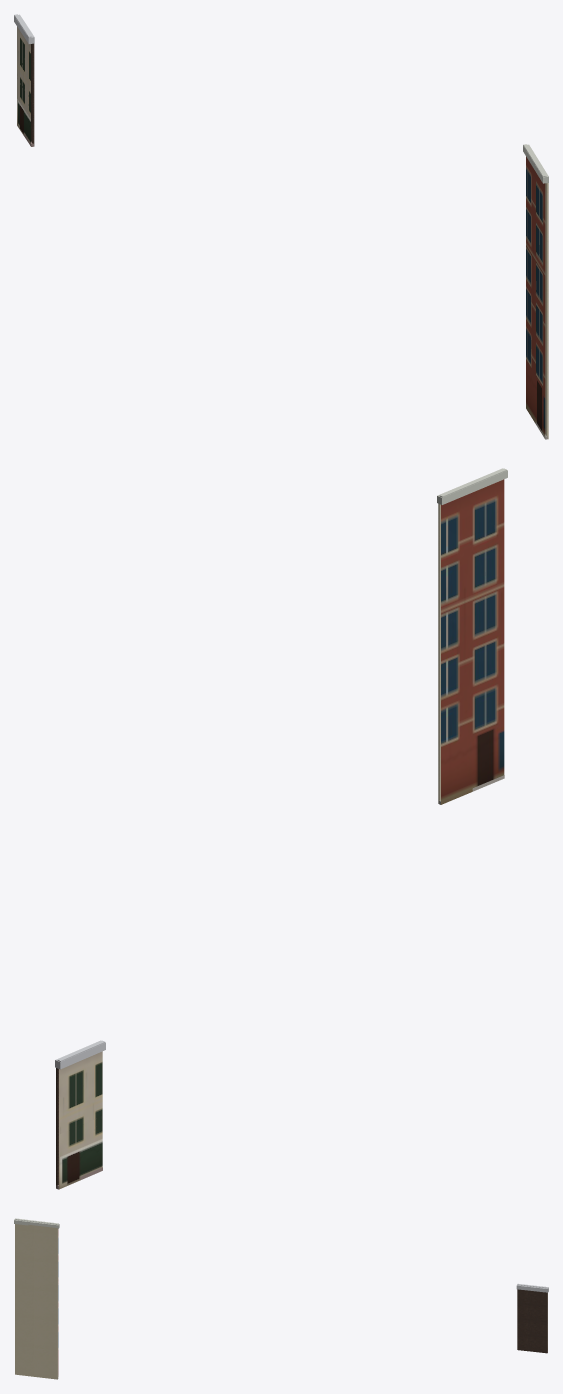
The picture shows the model from 3 angles, top to bottom: view 1: azimuth 30°, elevation 25°; view 2: azimuth 150°, elevation 25°; view 3: azimuth 270°, elevation 25°; orthographic projection. The views are drawn at different scales.
Visible parts, largest first — view 1: bldg_180051338_facade5, bldg_516646839_facade3; view 2: bldg_180051338_facade5, bldg_516646839_facade3; view 3: bldg_180051338_facade5, bldg_516646839_facade3.
Boxes of the visible parts, box(x1,y1,x2,y2) form: bldg_180051338_facade5: box(523, 144, 548, 439); bldg_516646839_facade3: box(14, 14, 34, 146); bldg_180051338_facade5: box(437, 468, 507, 804); bldg_516646839_facade3: box(55, 1040, 105, 1189); bldg_180051338_facade5: box(14, 1218, 59, 1379); bldg_516646839_facade3: box(516, 1283, 548, 1353).
Bounding box in the file's own units: 6.94 × 16.05 × 50.3.
Materials: 7 (3 with a texture image).
